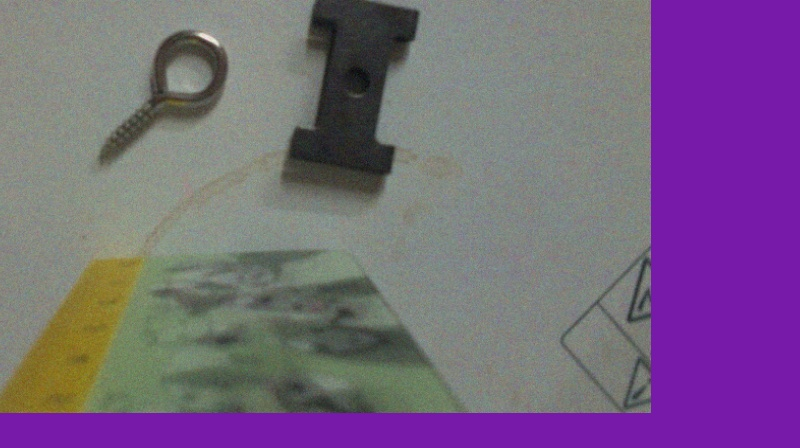O001: (90, 24, 230, 169)
O002: (279, 0, 421, 174)
